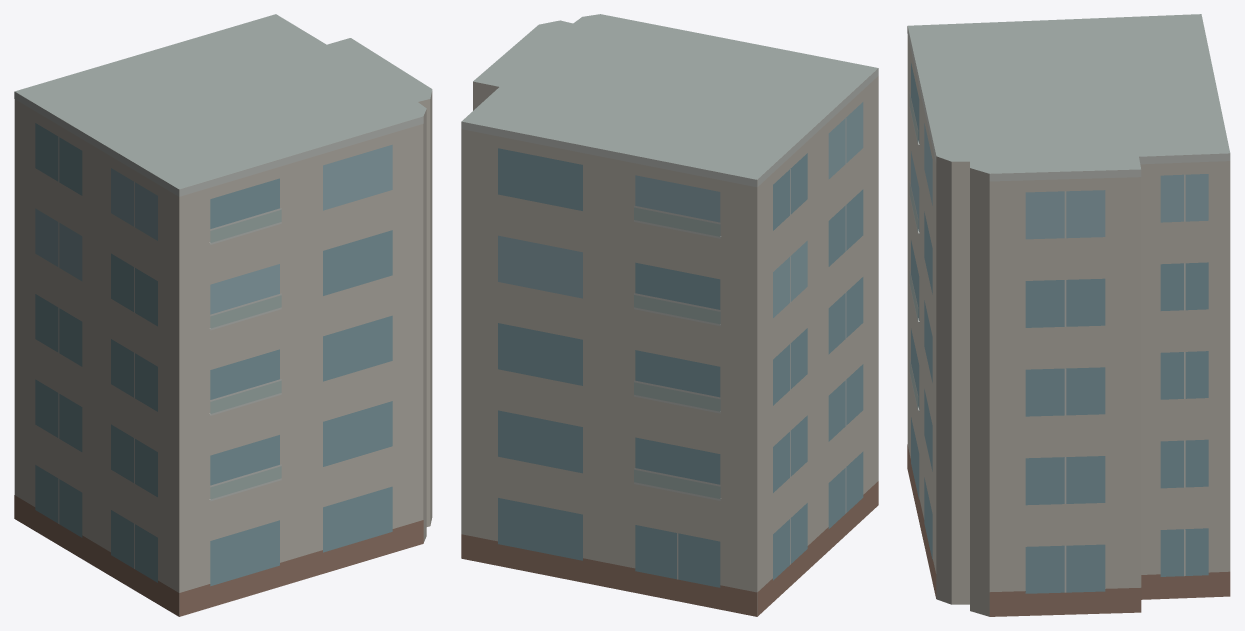
Rendered from survey-upis-32939047.glb.
3 views of the same model, side by side, from view 1: azimuth 30°, elevation 25°; view 2: azimuth 150°, elevation 25°; view 3: azimuth 270°, elevation 25° (orthographic). The views are drawn at different scales.
Parts seen in each view (by area): view 1: survey-upis-32939047.tmp; view 2: survey-upis-32939047.tmp; view 3: survey-upis-32939047.tmp.
Boxes of the visible parts, <box> form: survey-upis-32939047.tmp: <box>14,14,432,616</box>; survey-upis-32939047.tmp: <box>461,14,878,616</box>; survey-upis-32939047.tmp: <box>907,14,1230,616</box>.
Size of the model in its own units: 10.95 by 14.15 by 9.35.
